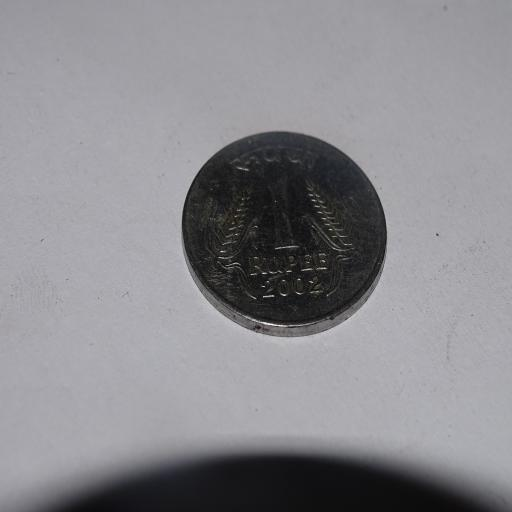rupee1: (178, 130, 385, 335)
